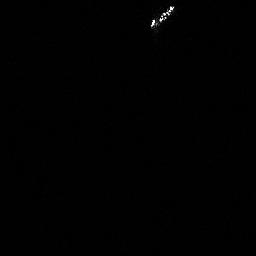ship: (150, 5, 173, 26)
